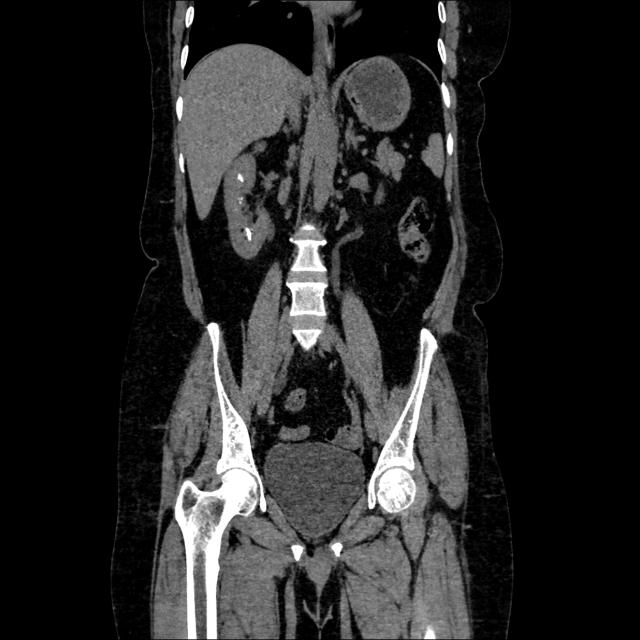kidney: (224, 154, 275, 260)
stone: (244, 227, 252, 241), (237, 173, 243, 183), (238, 200, 242, 203), (240, 196, 242, 200)
